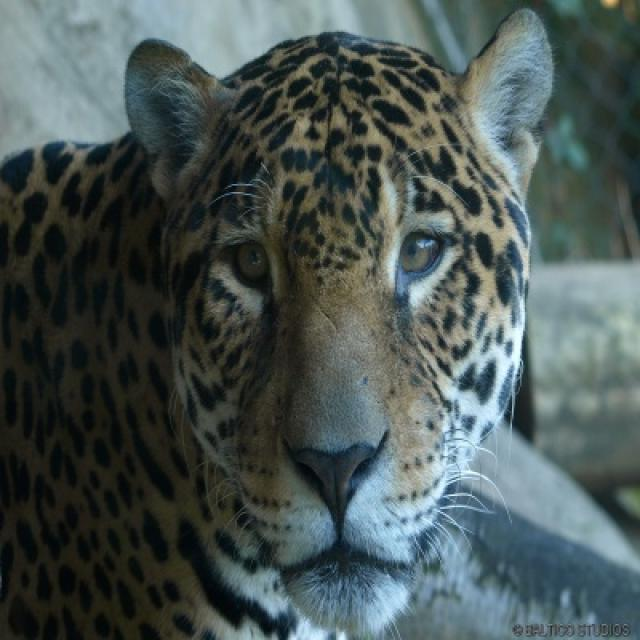Jaguar: (0, 8, 638, 638)
